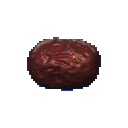gd: (23, 23, 119, 112)
